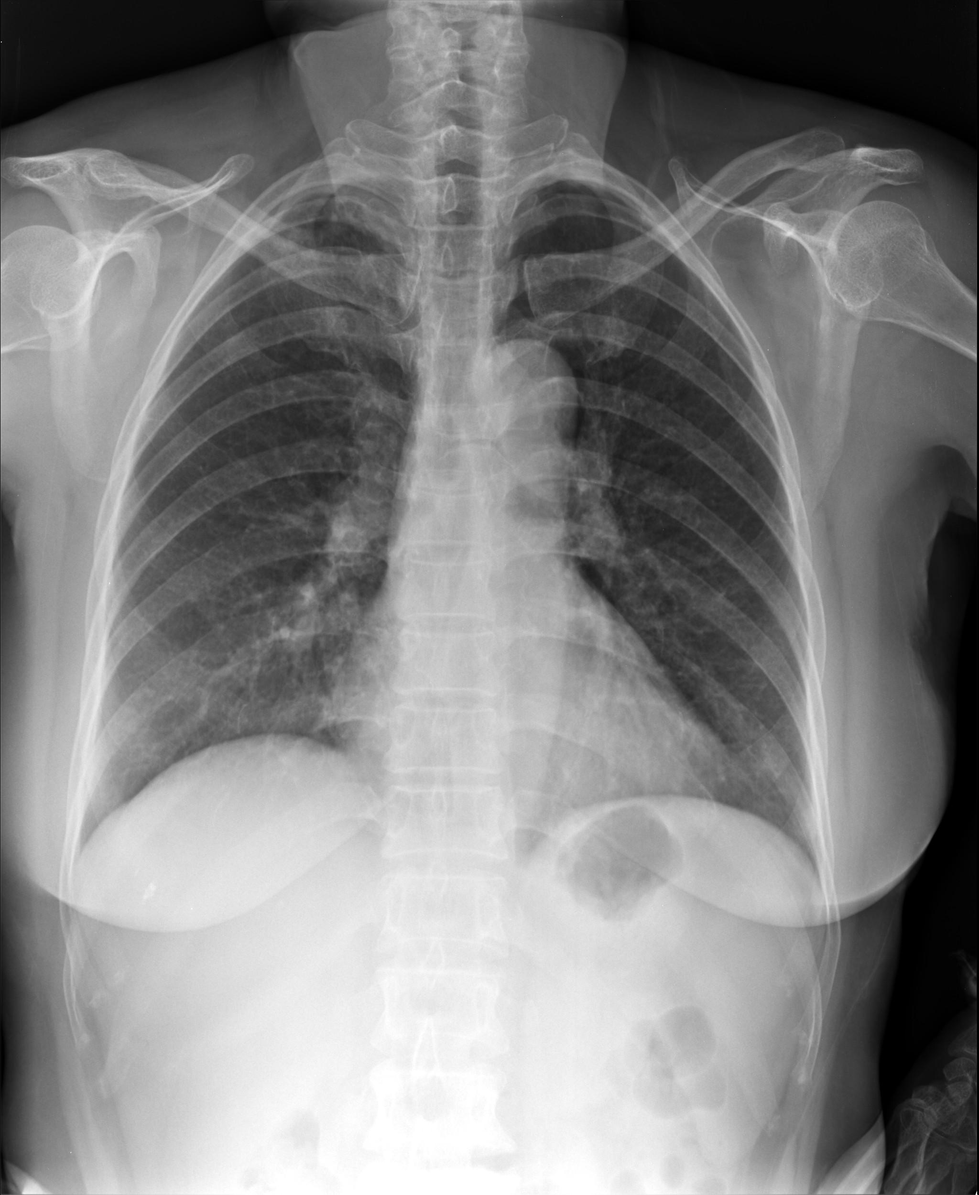Aortic enlargement: (472, 336, 582, 445)
Cardiomegaly: (318, 674, 740, 827)
Pleural thickening: (252, 177, 390, 213)
